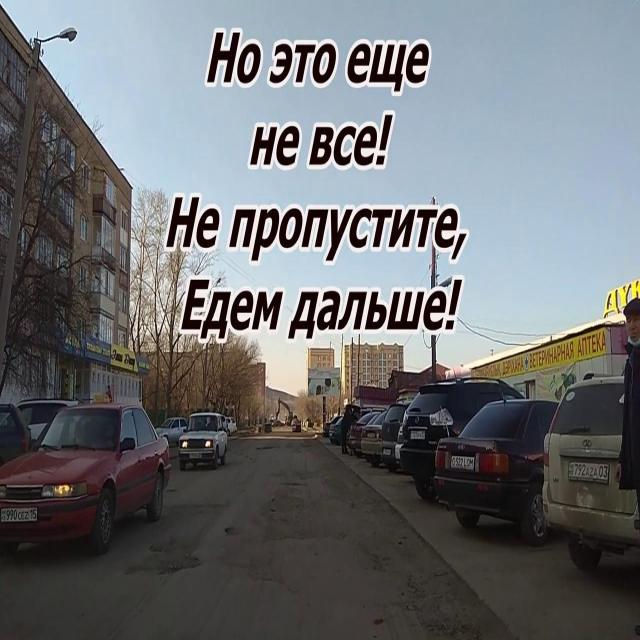License-plate: (568, 459, 609, 484), (451, 452, 476, 476), (2, 506, 37, 522)
